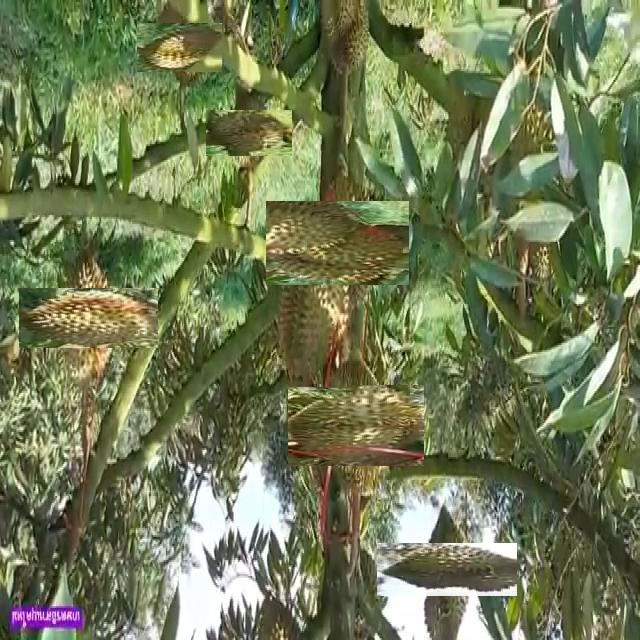durian: (281, 186, 395, 300), (275, 219, 352, 387), (302, 372, 411, 480), (38, 268, 138, 369), (399, 522, 495, 618), (146, 13, 213, 81), (215, 100, 282, 166), (318, 2, 370, 82)
